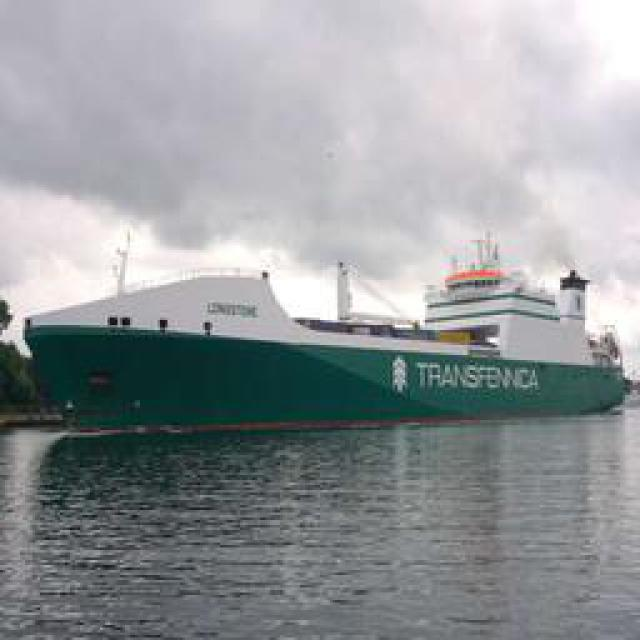Ship: (31, 251, 634, 436)
